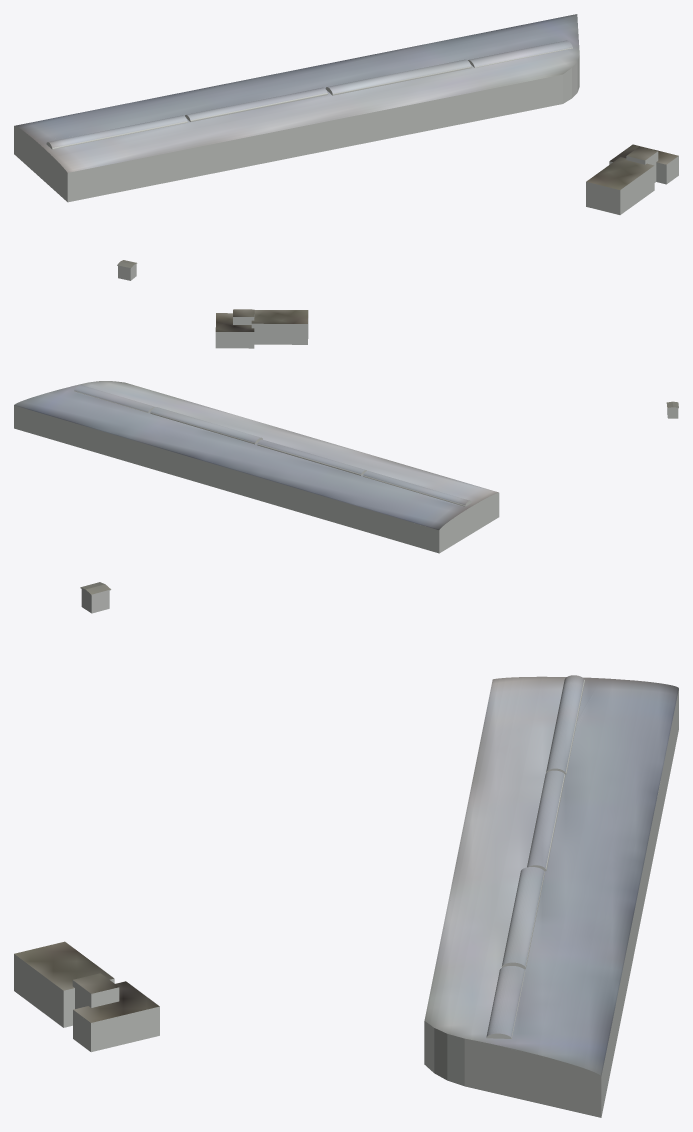
The model's file is LSZH_3_-2.glb.
3 renders of one model, top to bottom at view 1: azimuth 30°, elevation 25°; view 2: azimuth 150°, elevation 25°; view 3: azimuth 270°, elevation 25°, orthographic. The views are drawn at different scales.
Parts seen in each view (by area): view 1: building_eb87bcf87a12a1ac, building_cd26195c04d681bb, building_5d60fa49065a2184, building_2d5466128b1ea64f; view 2: building_eb87bcf87a12a1ac, building_cd26195c04d681bb, building_5d60fa49065a2184, building_2d5466128b1ea64f; view 3: building_eb87bcf87a12a1ac, building_cd26195c04d681bb, building_5d60fa49065a2184, building_2d5466128b1ea64f.
Part boxes in pixels (x1,y1,x2,y2): building_eb87bcf87a12a1ac: [14, 14, 579, 173]; building_cd26195c04d681bb: [14, 56, 579, 202]; building_5d60fa49065a2184: [586, 152, 678, 214]; building_2d5466128b1ea64f: [586, 144, 678, 190]; building_eb87bcf87a12a1ac: [14, 381, 498, 530]; building_cd26195c04d681bb: [14, 406, 499, 553]; building_5d60fa49065a2184: [215, 315, 308, 348]; building_2d5466128b1ea64f: [215, 309, 308, 332]; building_eb87bcf87a12a1ac: [424, 675, 678, 1076]; building_cd26195c04d681bb: [424, 690, 678, 1117]; building_5d60fa49065a2184: [14, 955, 159, 1052]; building_2d5466128b1ea64f: [14, 941, 159, 1023].
Size of the model in its own units: 259 by 21.83 by 160.
Materials: 2 (1 with a texture image).
